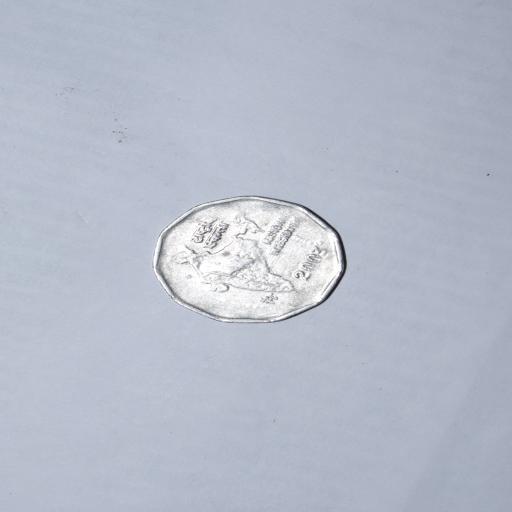rupee2: (152, 195, 348, 322)
